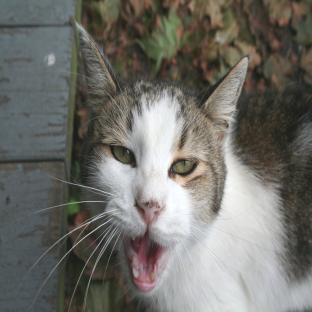Animal: (76, 23, 312, 312)
